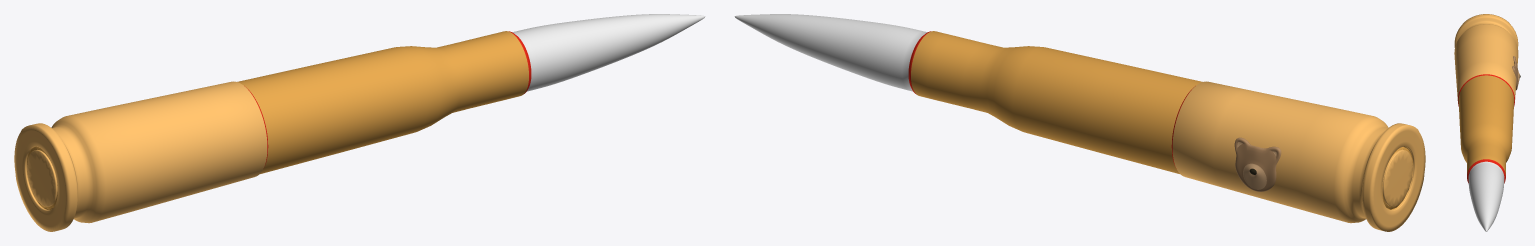
Rendered from falconBullet.fbx.
3 renders of one model, left to right at view 1: azimuth 30°, elevation 25°; view 2: azimuth 150°, elevation 25°; view 3: azimuth 270°, elevation 25°, orthographic. The views are drawn at different scales.
Visible parts, largest first — view 1: Cylinder, Sphere.001; view 2: Cylinder, Sphere.001, Circle; view 3: Cylinder, Sphere.001, Circle.
Boxes of the visible parts, box(x1,y1,x2,y2) form: Cylinder: box(27, 14, 705, 209); Sphere.001: box(14, 81, 268, 231); Cylinder: box(734, 14, 1412, 209); Sphere.001: box(1171, 81, 1425, 231); Circle: box(1234, 137, 1281, 191); Cylinder: box(1458, 75, 1514, 231); Sphere.001: box(1454, 14, 1518, 106); Circle: box(1512, 56, 1520, 90).
Size of the model in its own units: 15.23 by 2.18 by 2.25.
